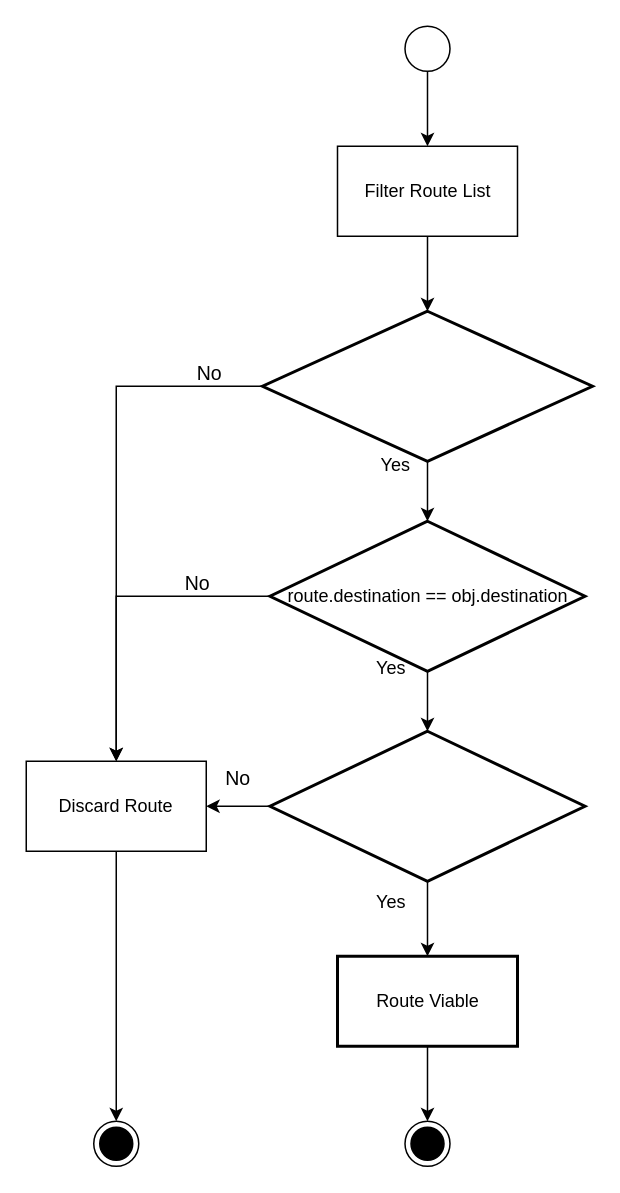
Image size: 620x1193. Some labels were removed from this diagram. The centre of each missing label's shape, as x and y in pixels:
route.arrivalDate < obj.deadline: point (427, 805)
route.origin == obj.origin: point (426, 385)
